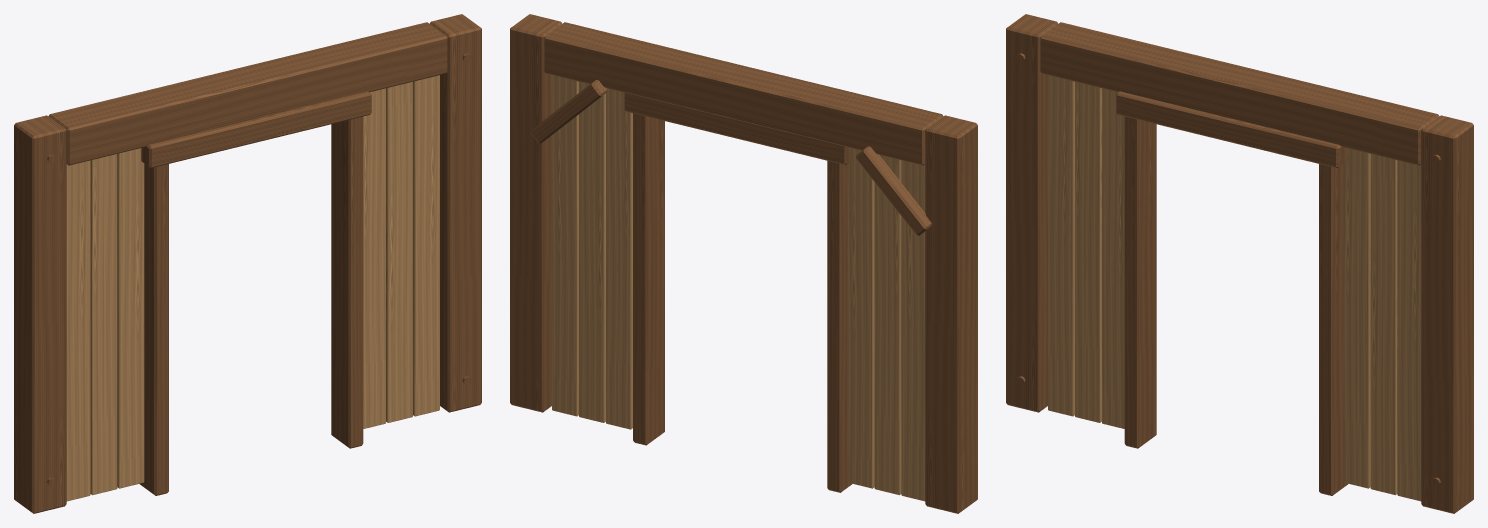
The model's file is Door.fbx.
3 views of the same model, side by side, from view 1: azimuth 30°, elevation 25°; view 2: azimuth 150°, elevation 25°; view 3: azimuth 330°, elevation 25° (orthographic).
Parts seen in each view (by area): view 1: Door_LOD0; view 2: Door_LOD0; view 3: Door_LOD0.
Boxes of the visible parts, x1,y1,x2,y2 form: Door_LOD0: (14,14,481,513); Door_LOD0: (510,14,977,513); Door_LOD0: (1006,14,1473,513).
Size of what is drawn, in the model's own units: 299 by 246 by 34.25.
Materials: 2 (2 with a texture image).
